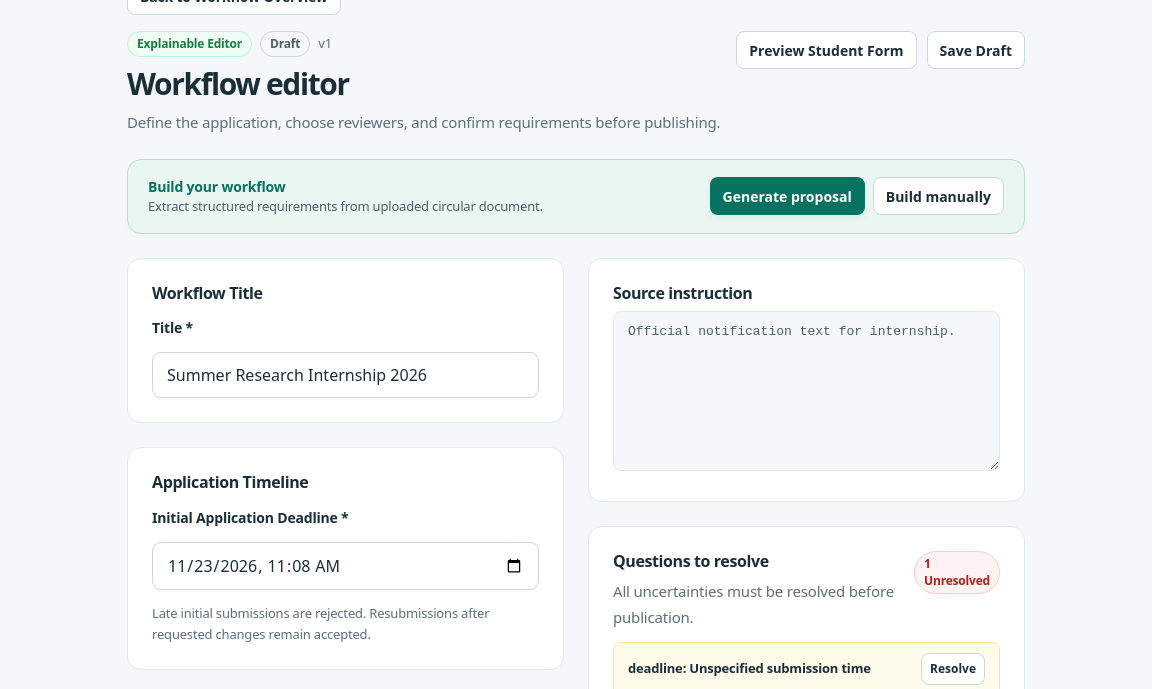
Test: P-006 Explainable Workflow Editor and Elements (T-A11Y-P006, EL-030..EL-044) › retains local input when a draft save fails, and sends the current version
Replace the text in the field with test id "EL-032" with "Updated internship process" at (346,375), box [152,352,539,398]
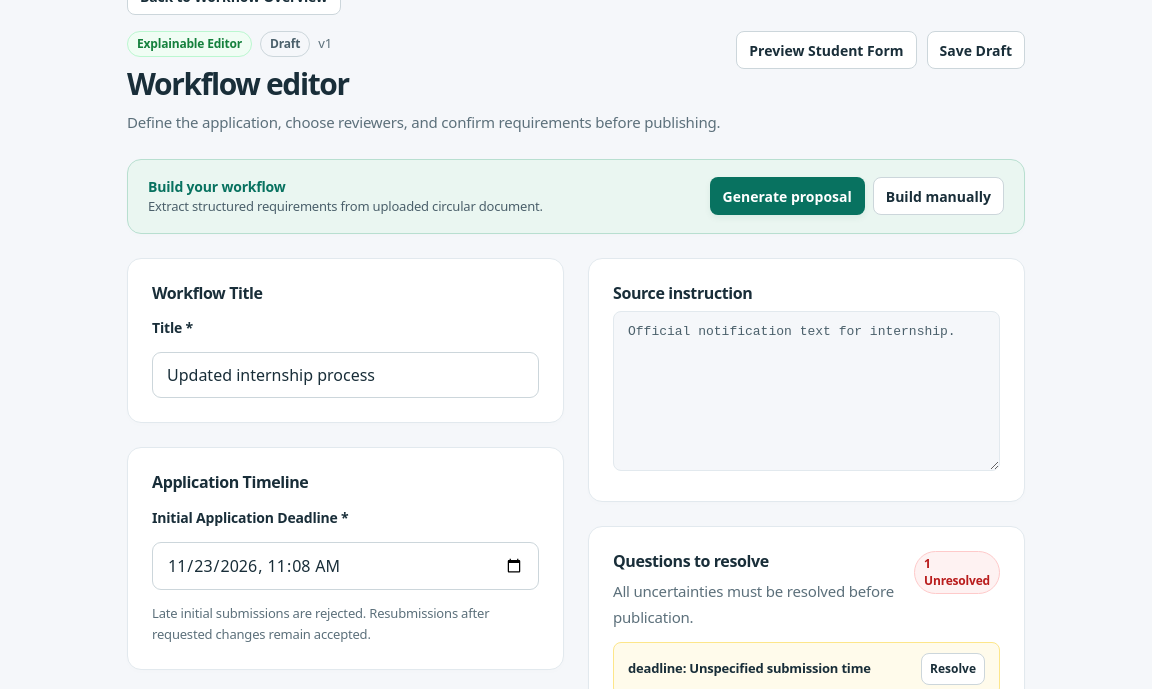
Replace the text in the field with test id "EL-033" with "2026-12-20T17:00" at (346,566), box [152,542,539,590]
(page scrolled)
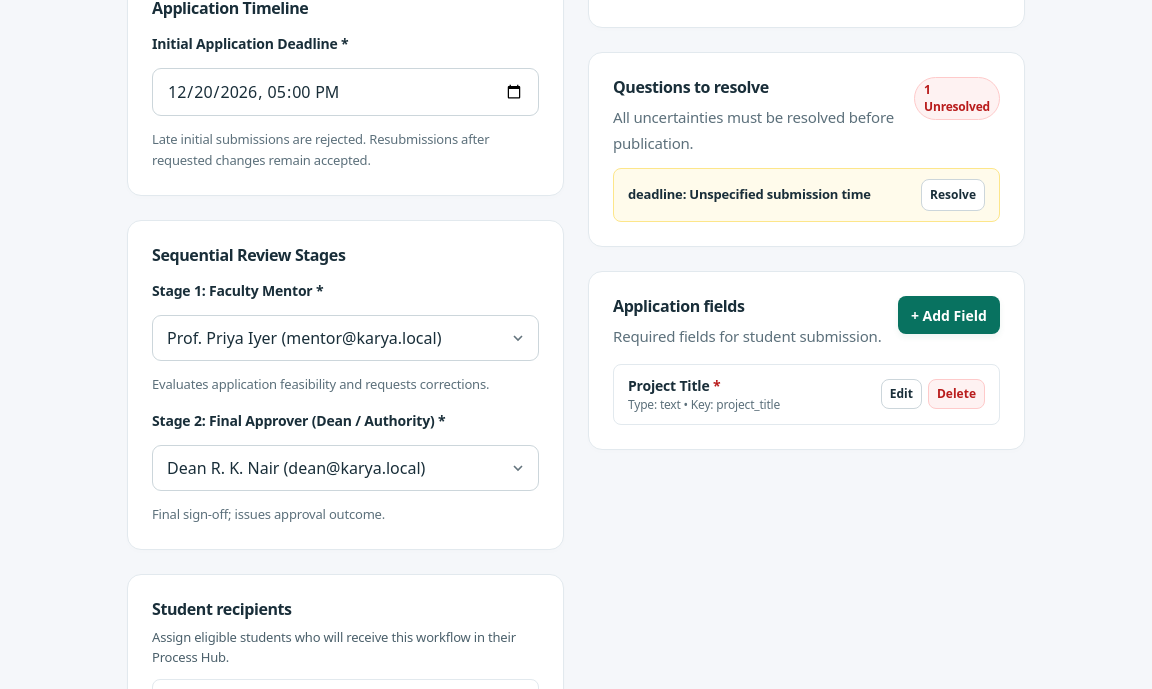
Select "Prof. Priya Iyer (mentor@karya.local)" in the dropdown with test id "EL-038" at (346,338), box [152,315,539,361]
Select "Dean R. K. Nair (dean@karya.local)" in the dropdown with test id "EL-039" at (346,468), box [152,445,539,491]
(page scrolled)
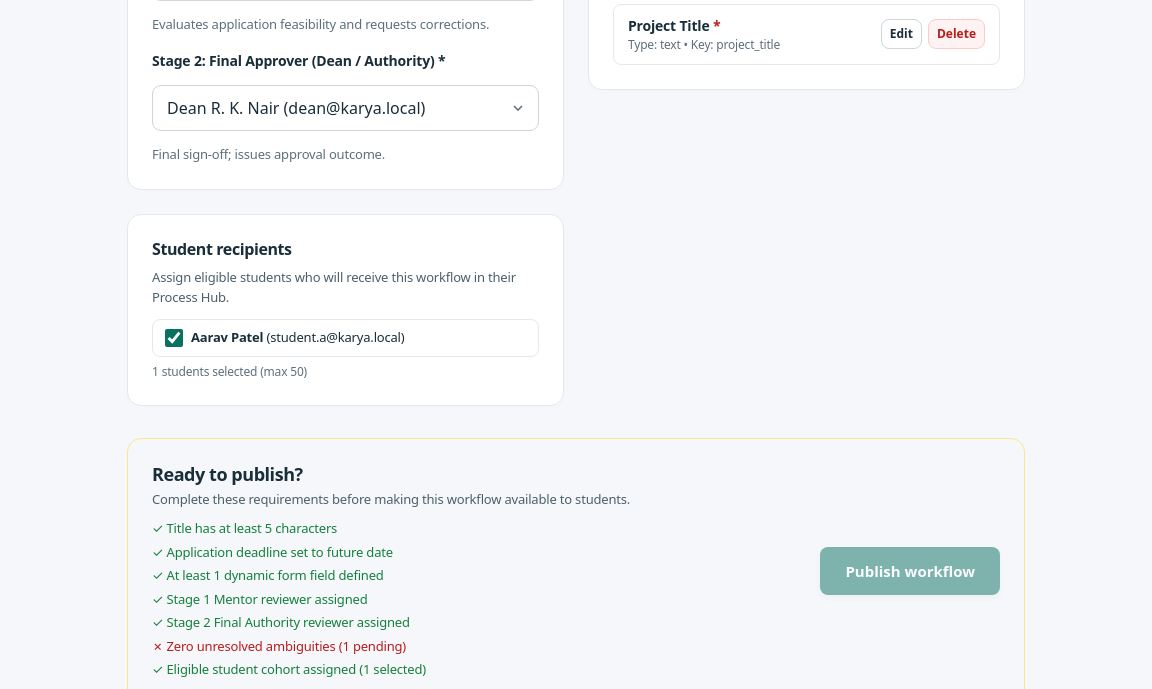
Click the checkbox labelled "Aarav Patel (student.a@karya.local)" at (174,338), box [165,329,183,347]
(page scrolled)
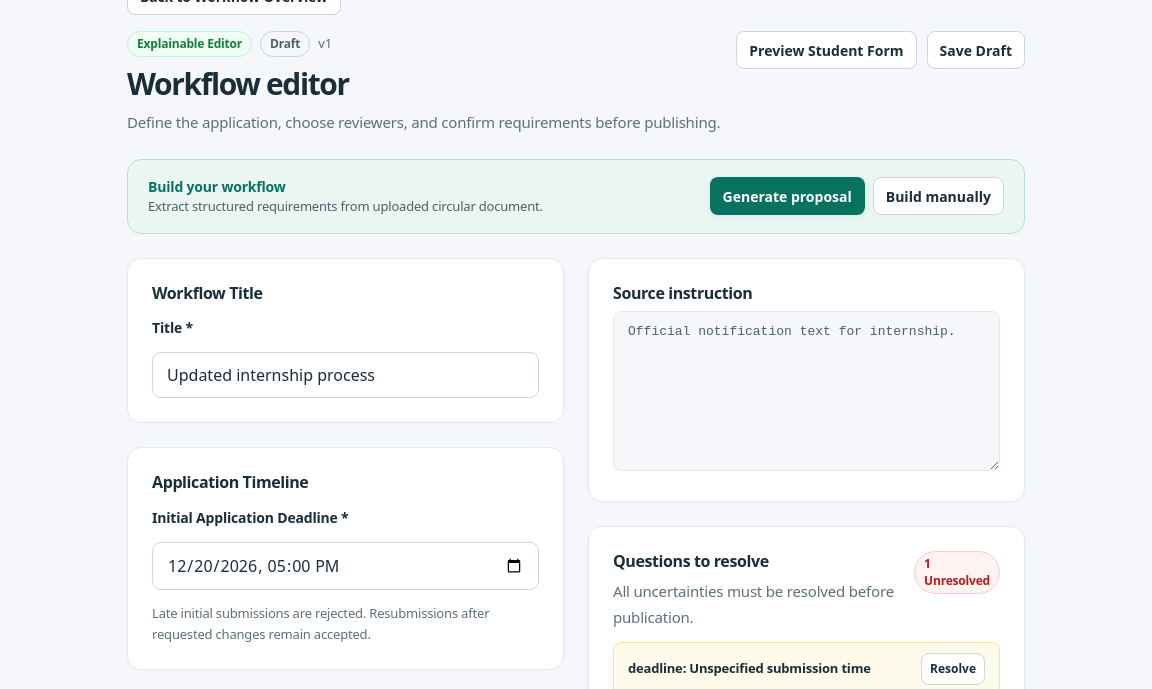
Click the button with test id "EL-042" at (976,50), box [926,31,1025,69]
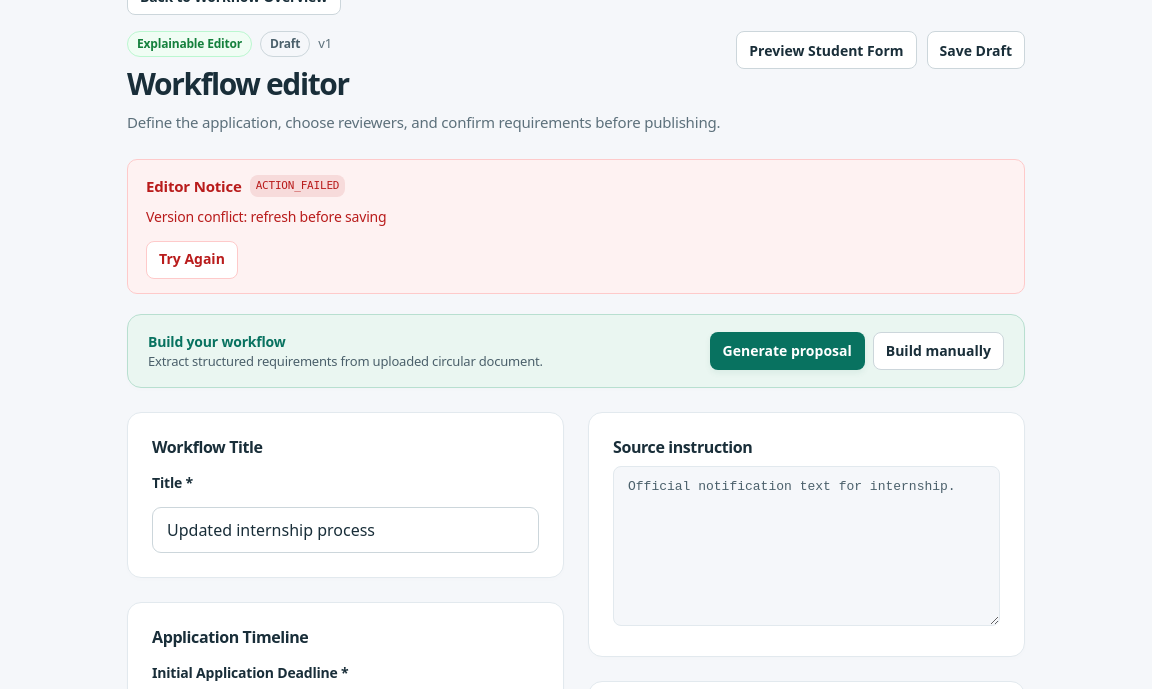
Expected: the text "Version conflict: refresh before saving" is shown, [146,206,386,228]
